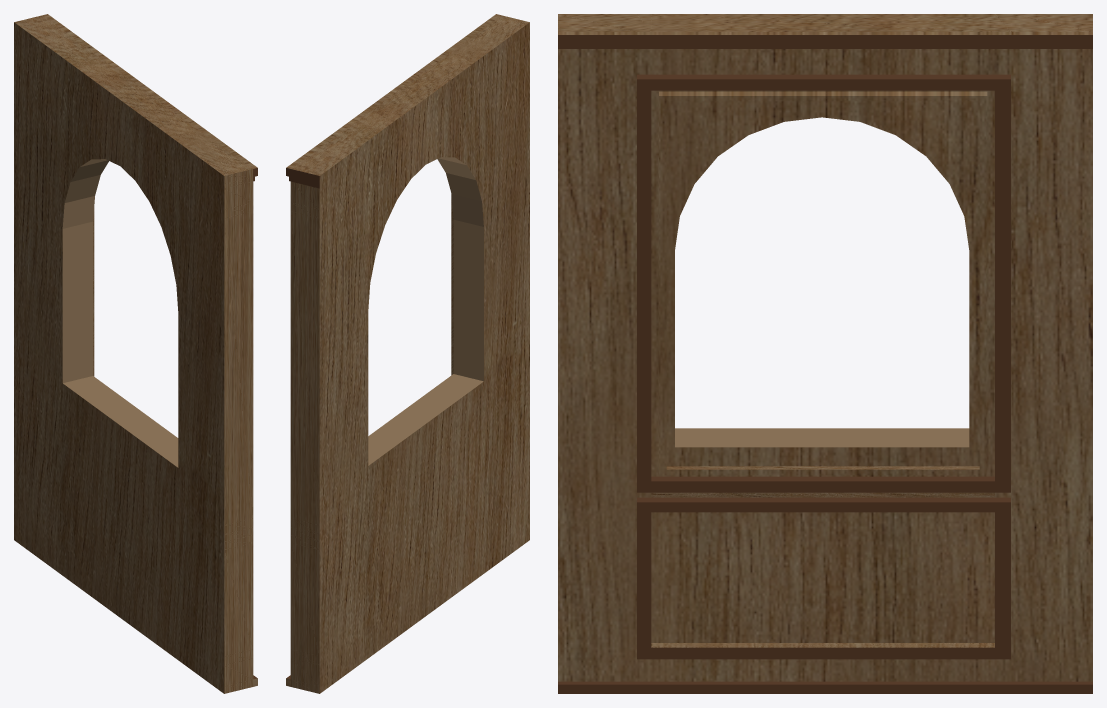
File: Arch_WallB_win.fbx
3 renders of one model, left to right at view 1: azimuth 30°, elevation 25°; view 2: azimuth 150°, elevation 25°; view 3: azimuth 270°, elevation 25°, orthographic. The views are drawn at different scales.
Visible parts, largest first — view 1: WallB; view 2: WallB; view 3: WallB.
Part boxes in pixels (bbox=[...]): WallB: bbox=[14, 14, 257, 693]; WallB: bbox=[286, 14, 529, 693]; WallB: bbox=[558, 14, 1092, 693].
Size of the model in its own units: 25 by 340 by 250.
